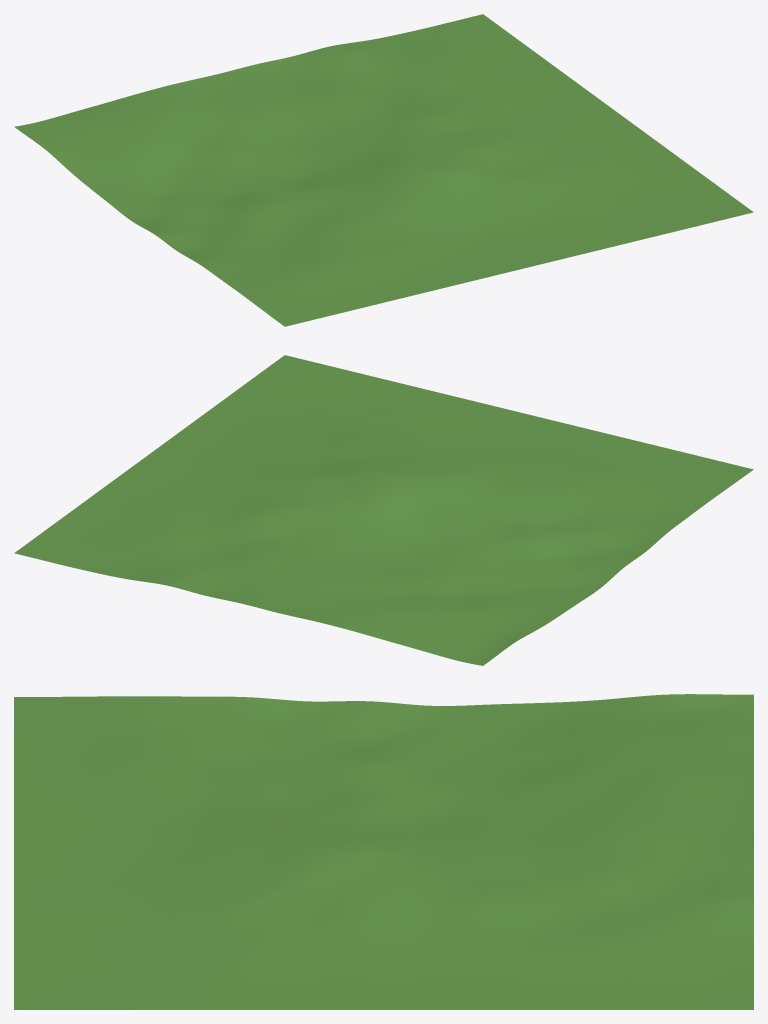
File: SM_Terrain_07_07.fbx
3 views of the same model, one above another, from view 1: azimuth 30°, elevation 25°; view 2: azimuth 150°, elevation 25°; view 3: azimuth 270°, elevation 25° (orthographic). The views are drawn at different scales.
Parts seen in each view (by area): view 1: SM_Terrain_07_07; view 2: SM_Terrain_07_07; view 3: SM_Terrain_07_07.
Part boxes in pixels (x1=…): SM_Terrain_07_07: x1=14, y1=14, x2=753, y2=326; SM_Terrain_07_07: x1=14, y1=355, x2=753, y2=665; SM_Terrain_07_07: x1=14, y1=694, x2=753, y2=1009.
Bounding box in the file's own units: 384 × 13.6 × 384.
